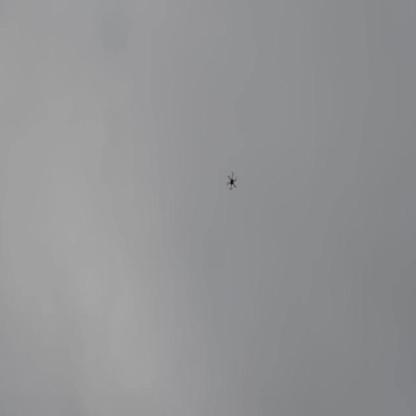drone: (225, 168, 238, 191)
